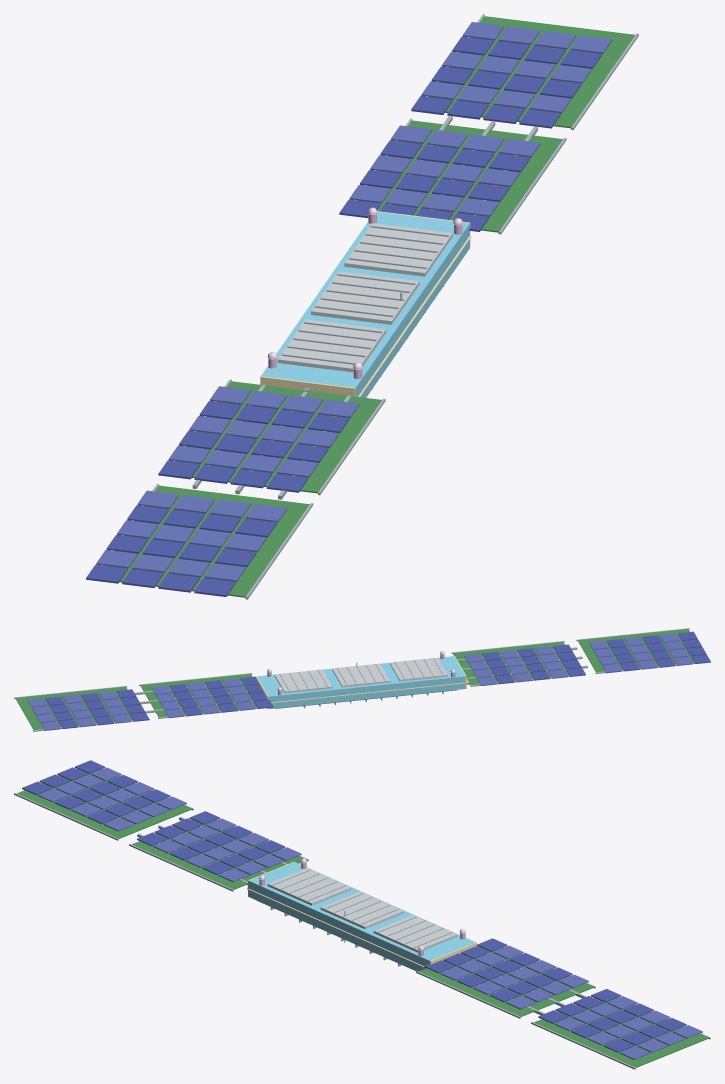
File: starlink_v2.glb
3 views of the same model, one above another, from view 1: azimuth 30°, elevation 25°; view 2: azimuth 150°, elevation 25°; view 3: azimuth 270°, elevation 25° (orthographic). The views are drawn at different scales.
Bounding box in the file's own units: 11.36 × 0.575 × 10.89.
